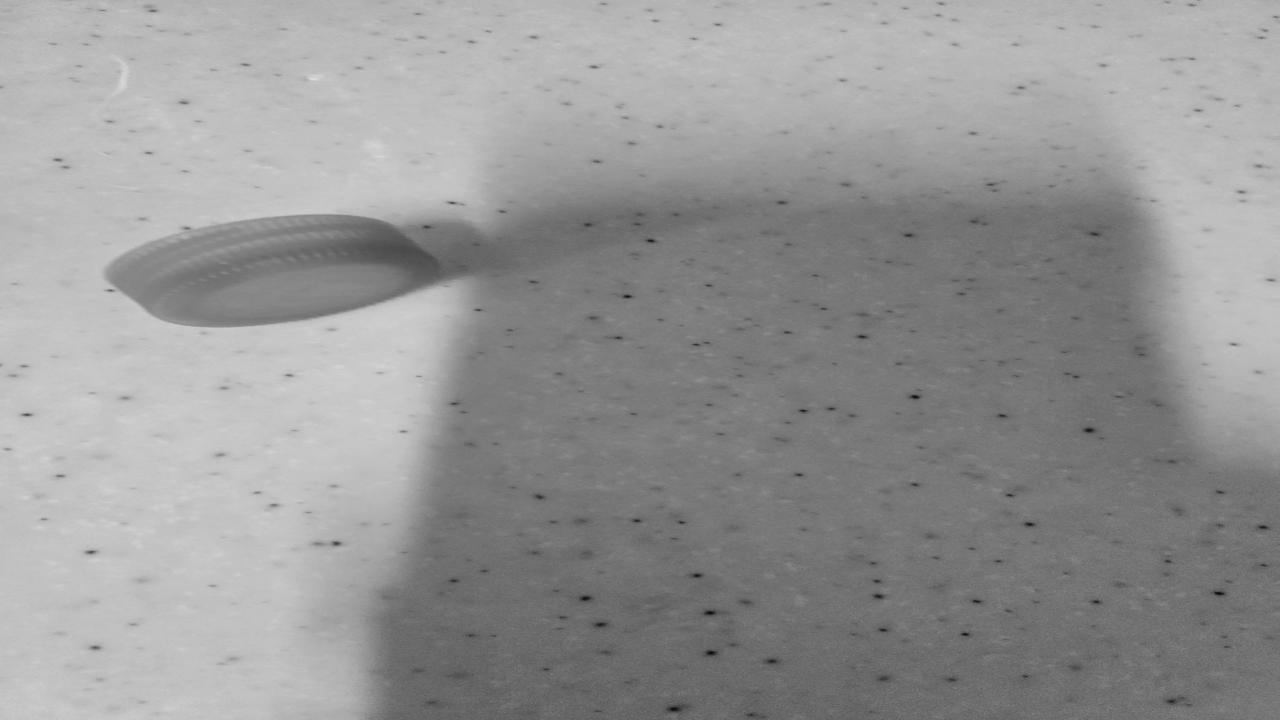bottle_cap: (122, 216, 418, 322)
